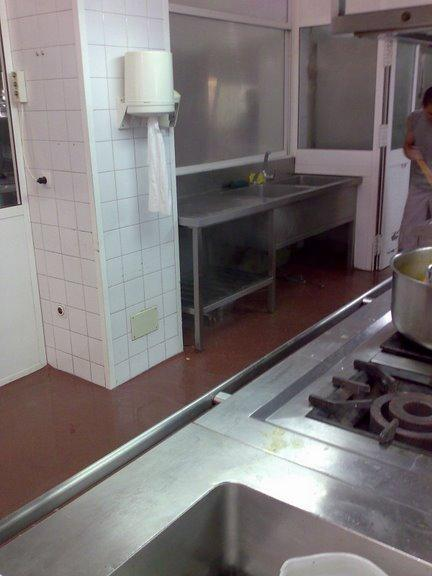Lavaplatos: (224, 147, 355, 225)
